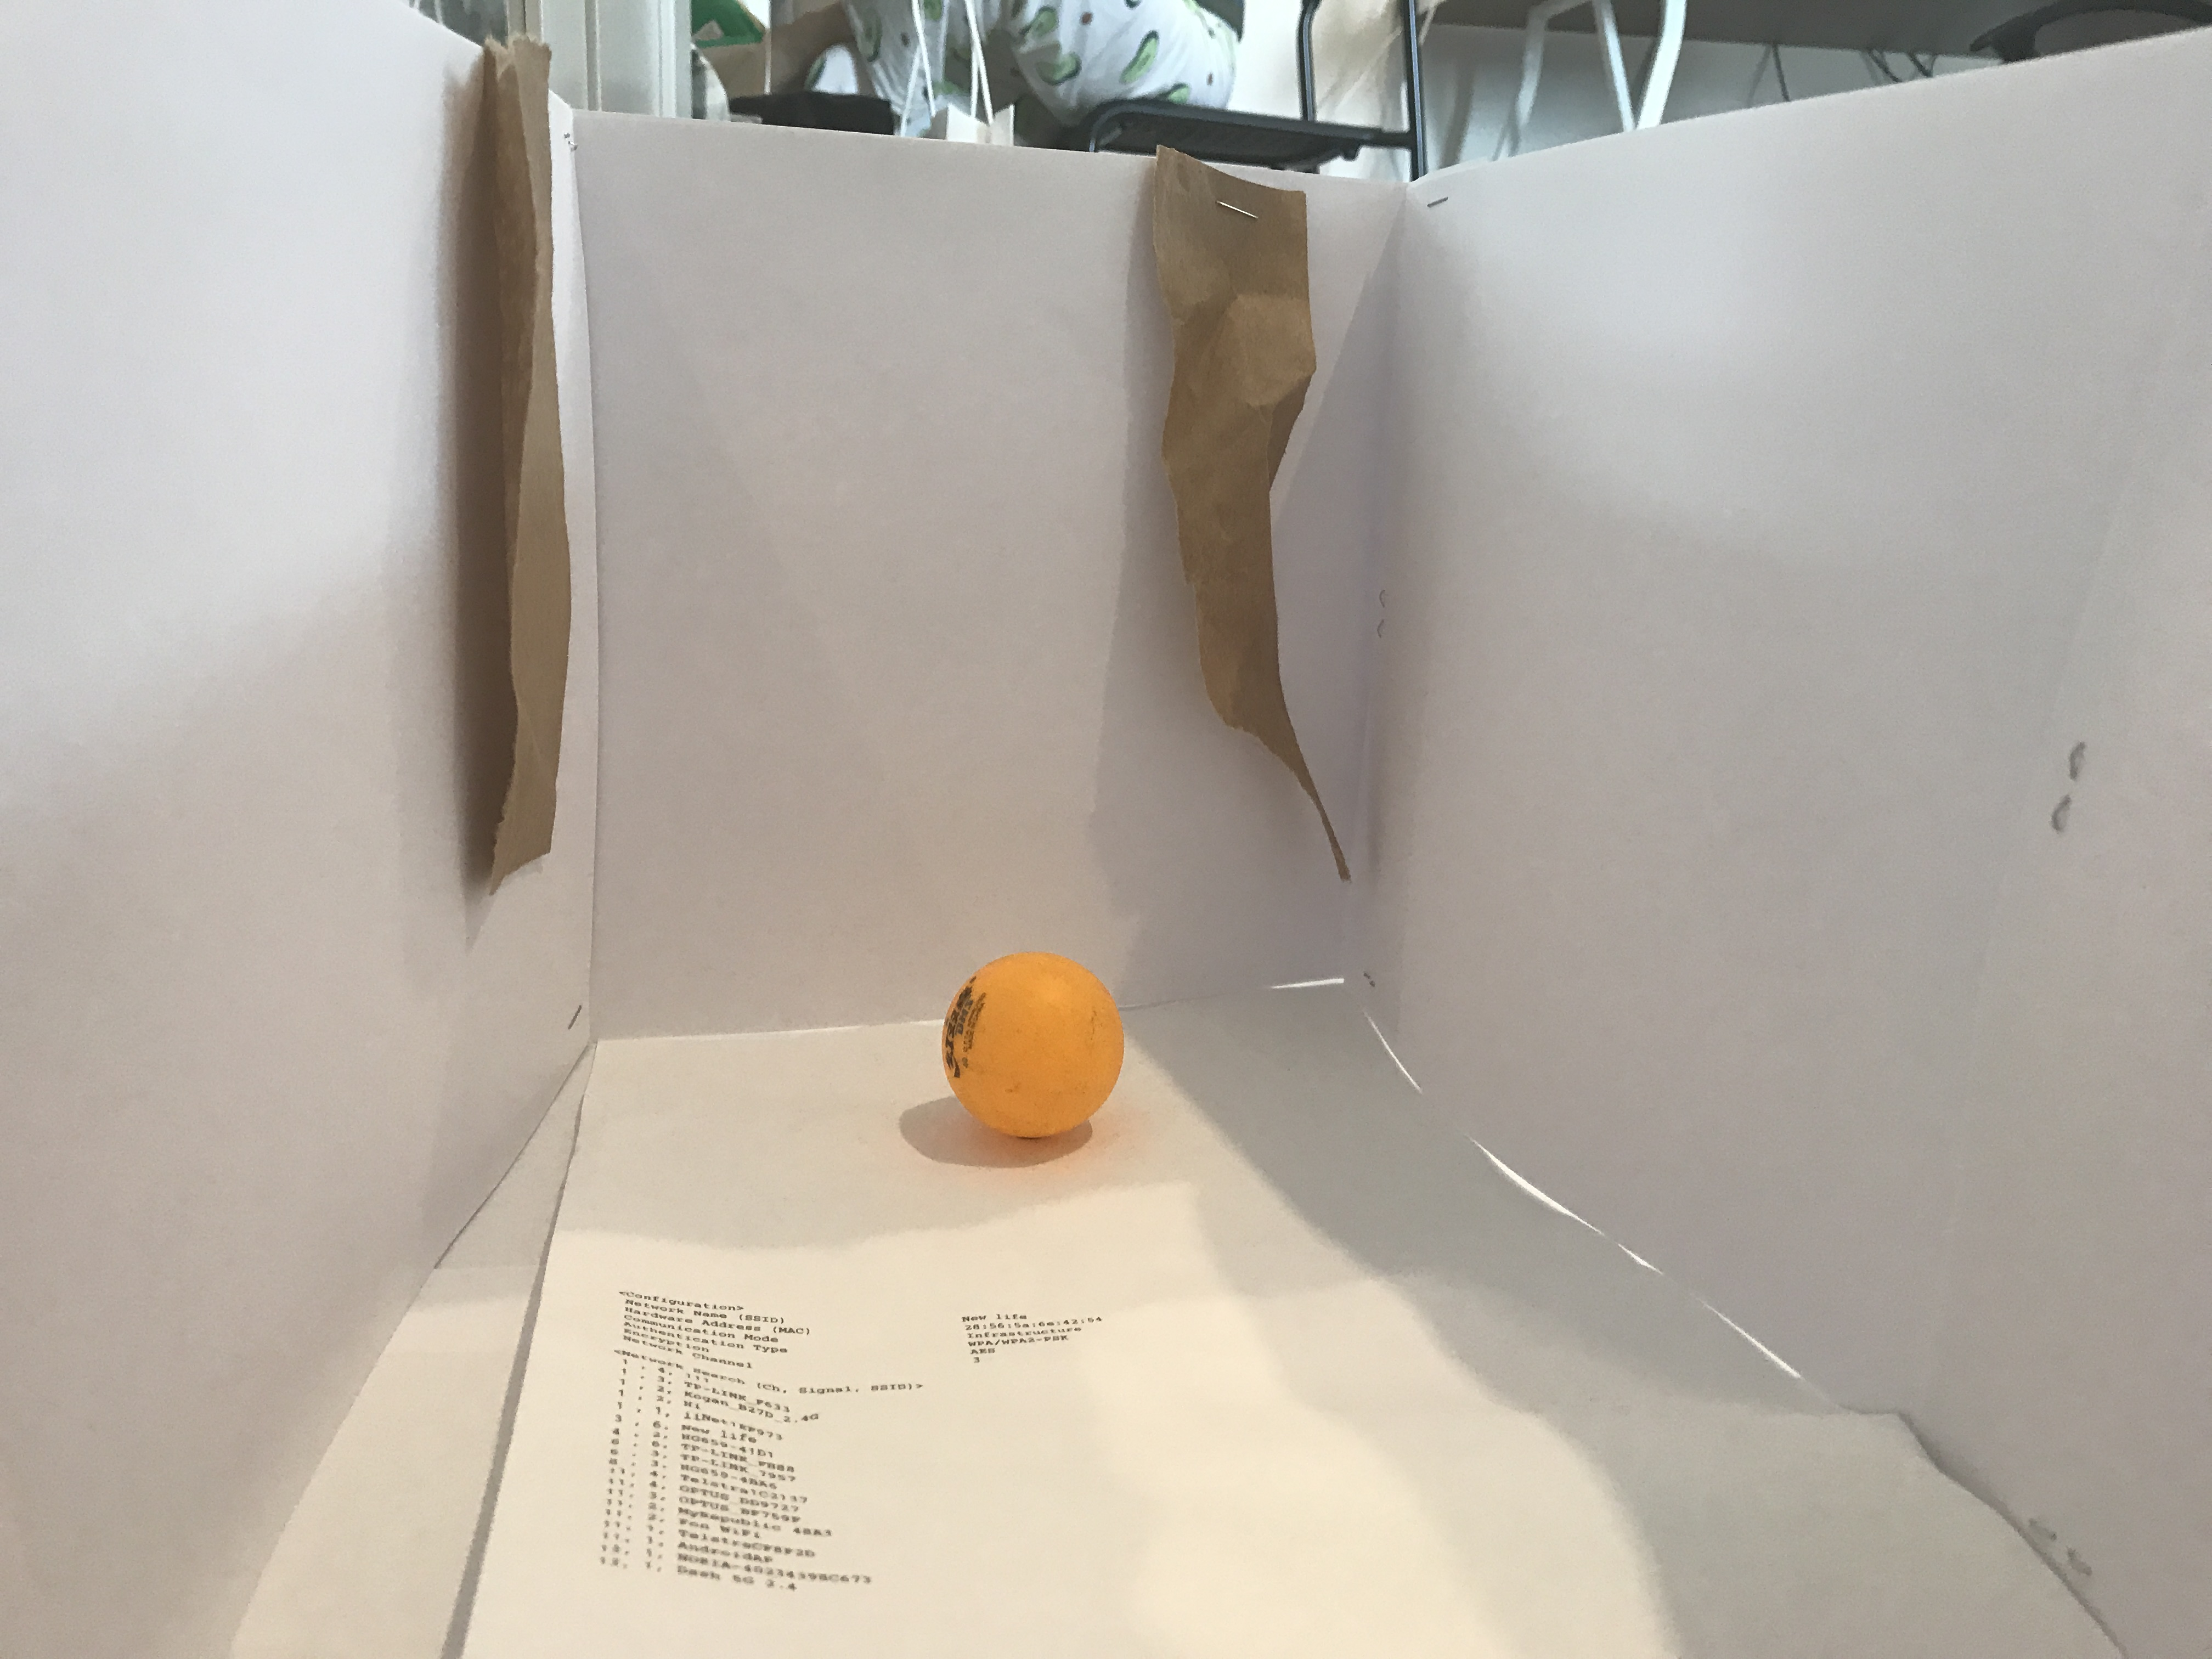pp: (932, 946, 1130, 1143)
